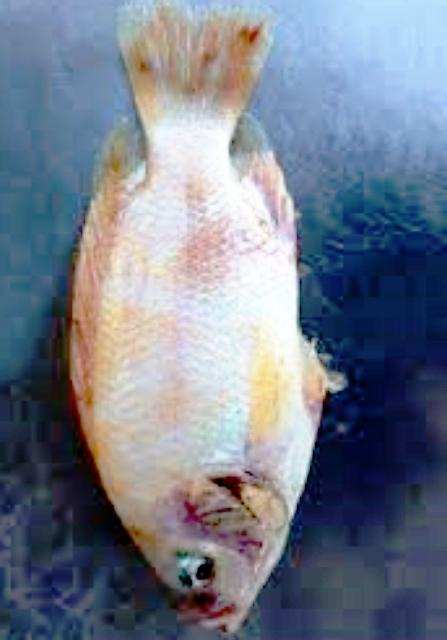Tilapia Lake Virus -TiLV-: (75, 5, 326, 629)
